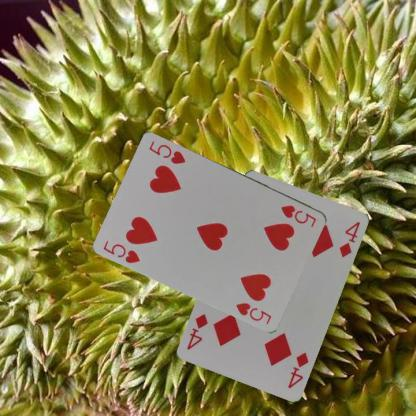4d: (285, 349, 310, 389)
5h: (101, 238, 142, 265), (278, 202, 318, 228)
